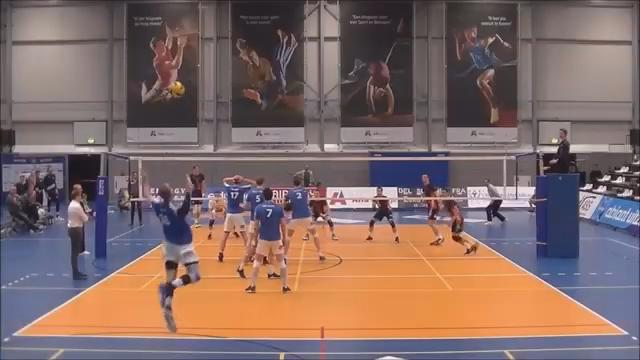battuta: (137, 168, 199, 335)
